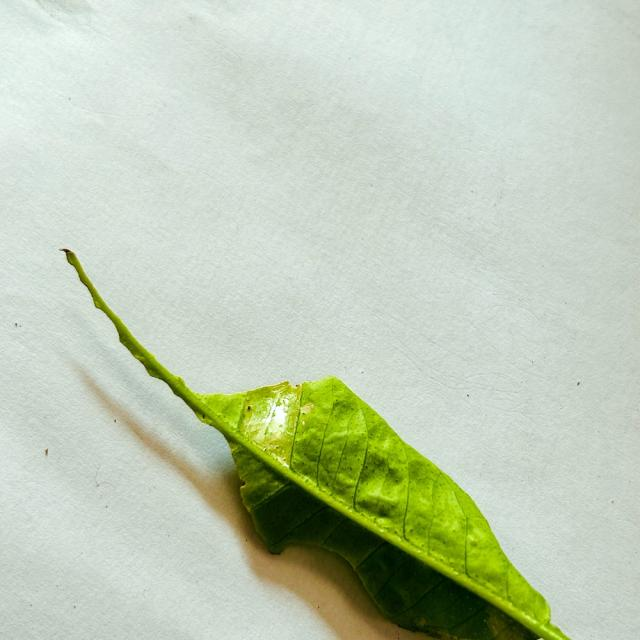Deficiency Leaf: (87, 317, 267, 552), (111, 299, 331, 397), (273, 547, 385, 626)
Lemon: (63, 250, 568, 639)
